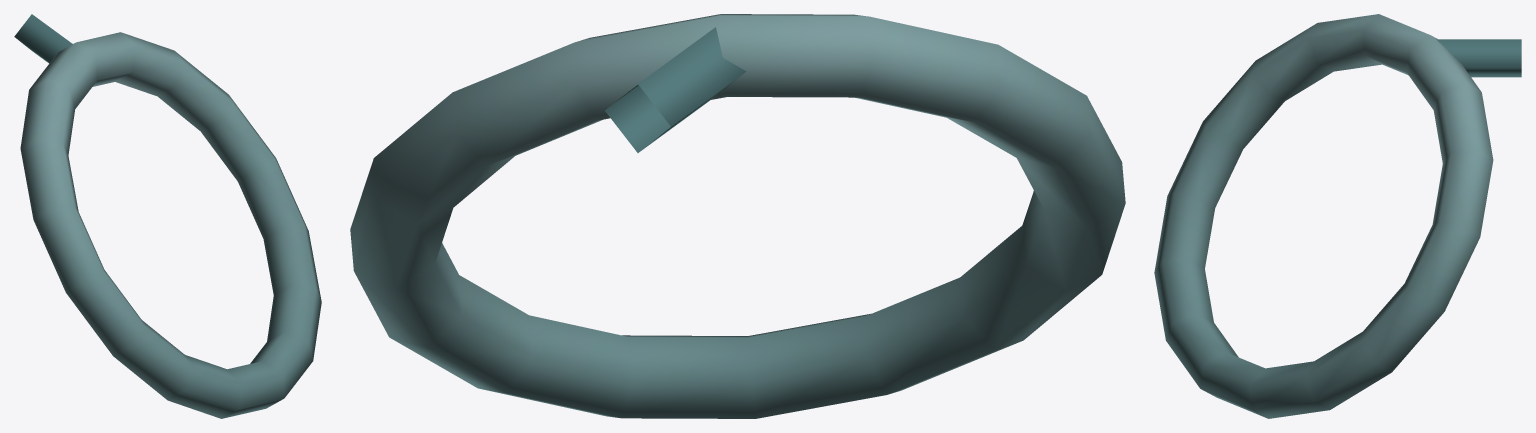
The model's file is Grenade_HE_01_Pin.fbx.
The picture shows the model from 3 angles, left to right: view 1: azimuth 30°, elevation 25°; view 2: azimuth 150°, elevation 25°; view 3: azimuth 270°, elevation 25°; orthographic projection. The views are drawn at different scales.
Visible parts, largest first — view 1: Grenade_HE_01_Pin; view 2: Grenade_HE_01_Pin; view 3: Grenade_HE_01_Pin.
Boxes of the visible parts, x1=… form: Grenade_HE_01_Pin: x1=14, y1=14, x2=321, y2=418; Grenade_HE_01_Pin: x1=350, y1=14, x2=1125, y2=418; Grenade_HE_01_Pin: x1=1154, y1=14, x2=1521, y2=418.
Bounding box in the file's own units: 4.95 × 4.52 × 4.71.
